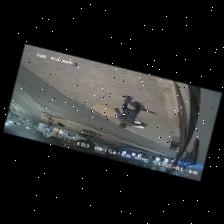person: (115, 95, 147, 127)
